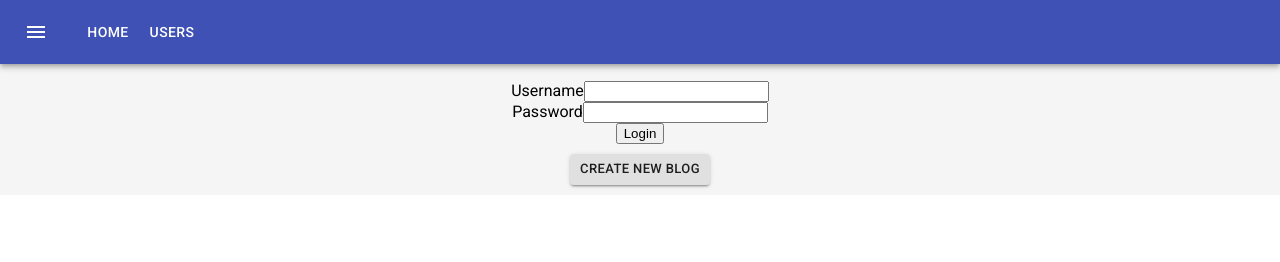
it: Blog app › Log in › fails with incorrect creds
Type "wrong" into the field with id "username". click: (677, 92)
box: [584,81,769,102]
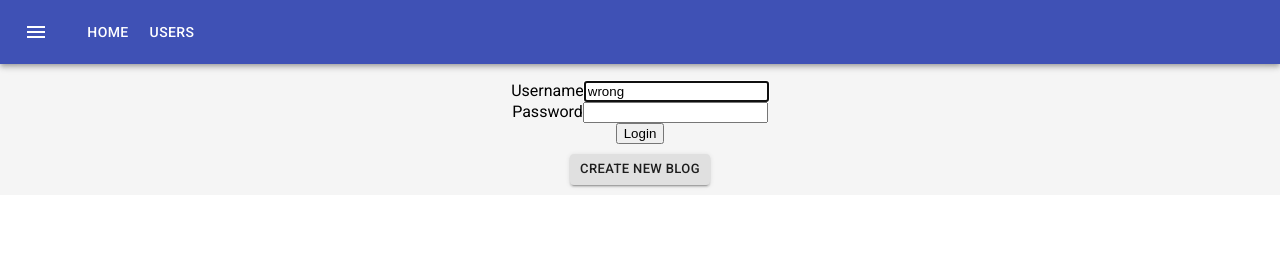
Type "ThirtyThree" into the password field labelled "Password". click: (676, 113)
box: [583,102,768,123]
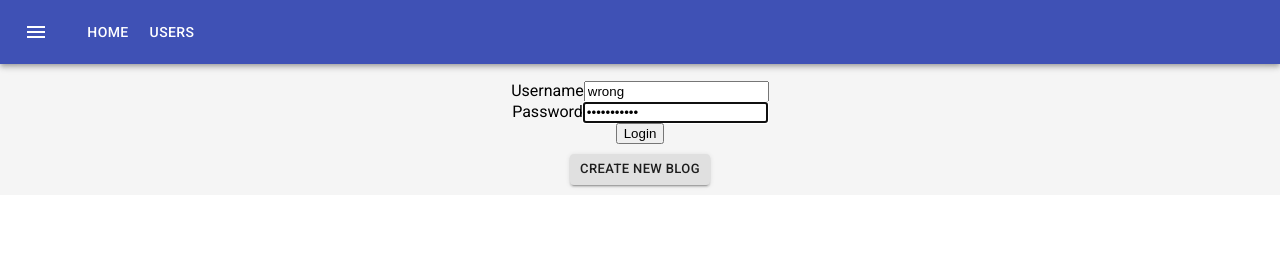
Click the button "Login". click: (641, 134)
box: [616,123,665,144]
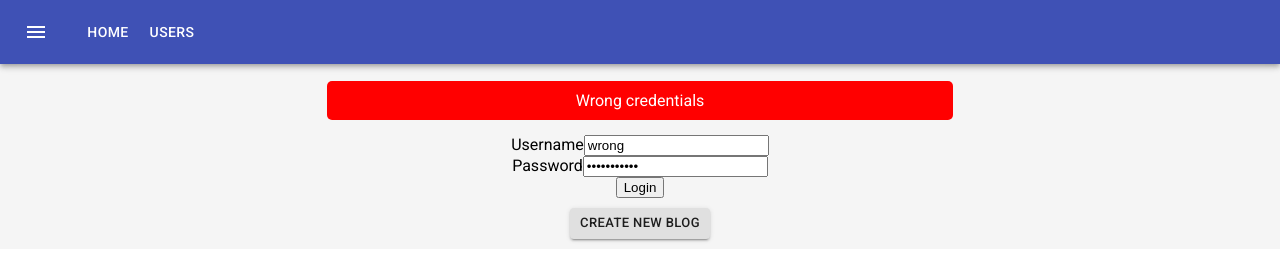
Expected: the text "Wrong credentials" is shown, [327,81,953,120]
